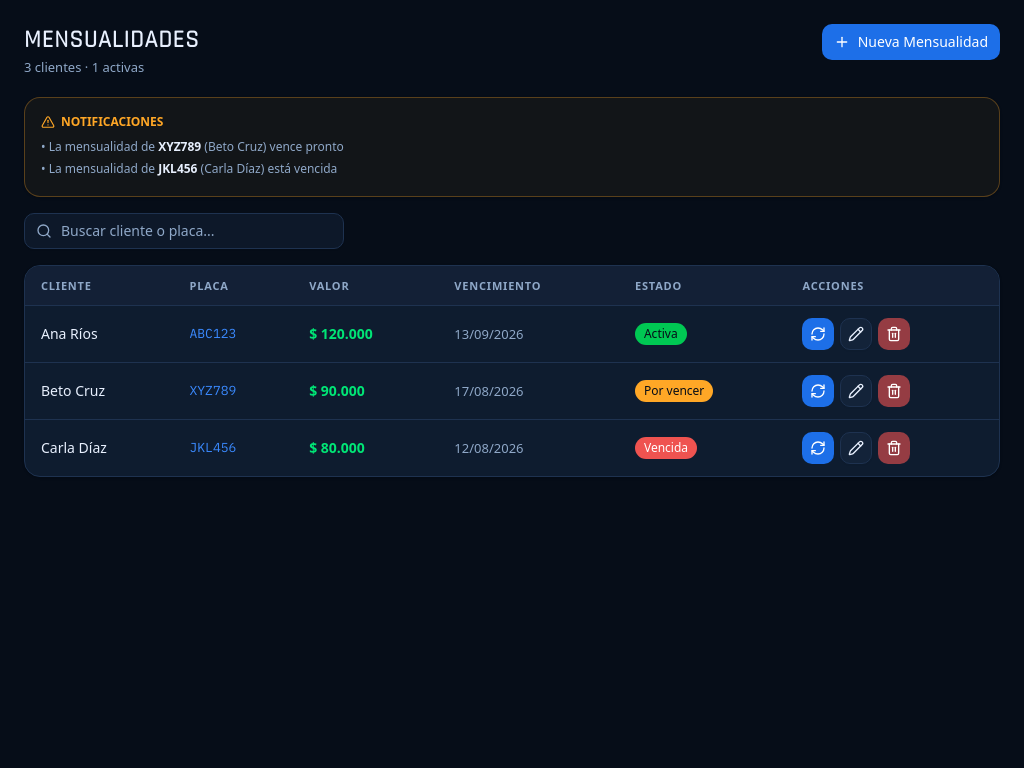
Test: no borra nada hasta confirmar en el diálogo
Click the button named "Eliminar la mensualidad de ABC123": [894, 334] box [878,318,910,350]
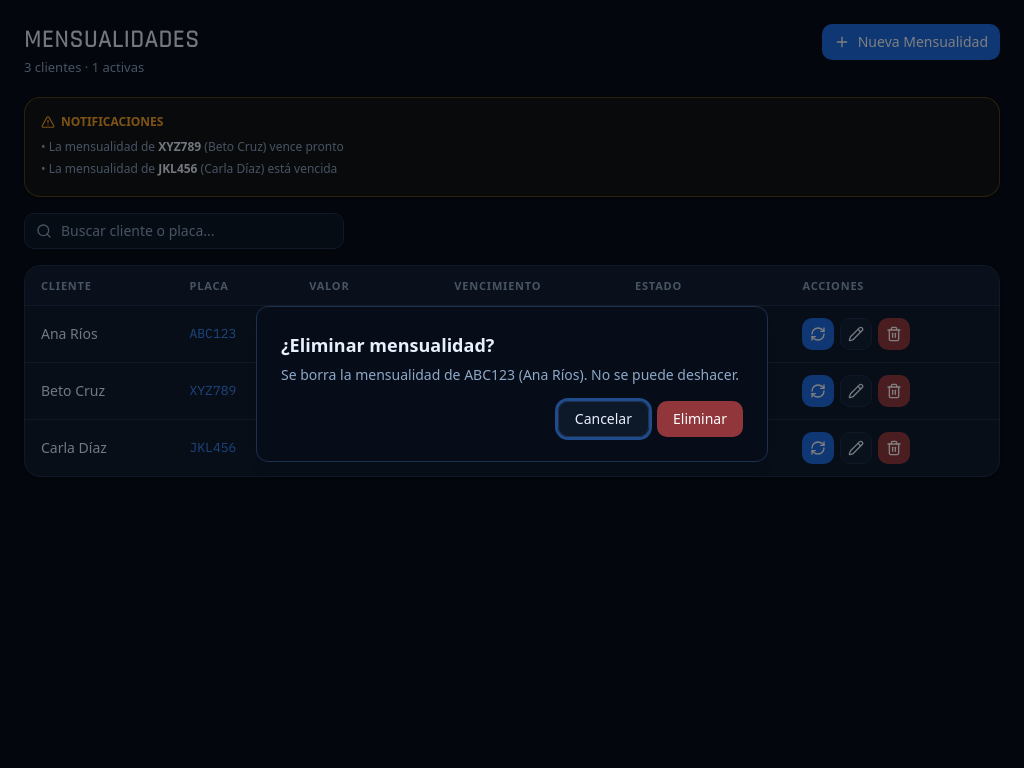
Now the heading "¿Eliminar mensualidad?" is shown, box [281,331,494,359]
Click the button "Cancelar": [603, 419] box [558,401,649,437]
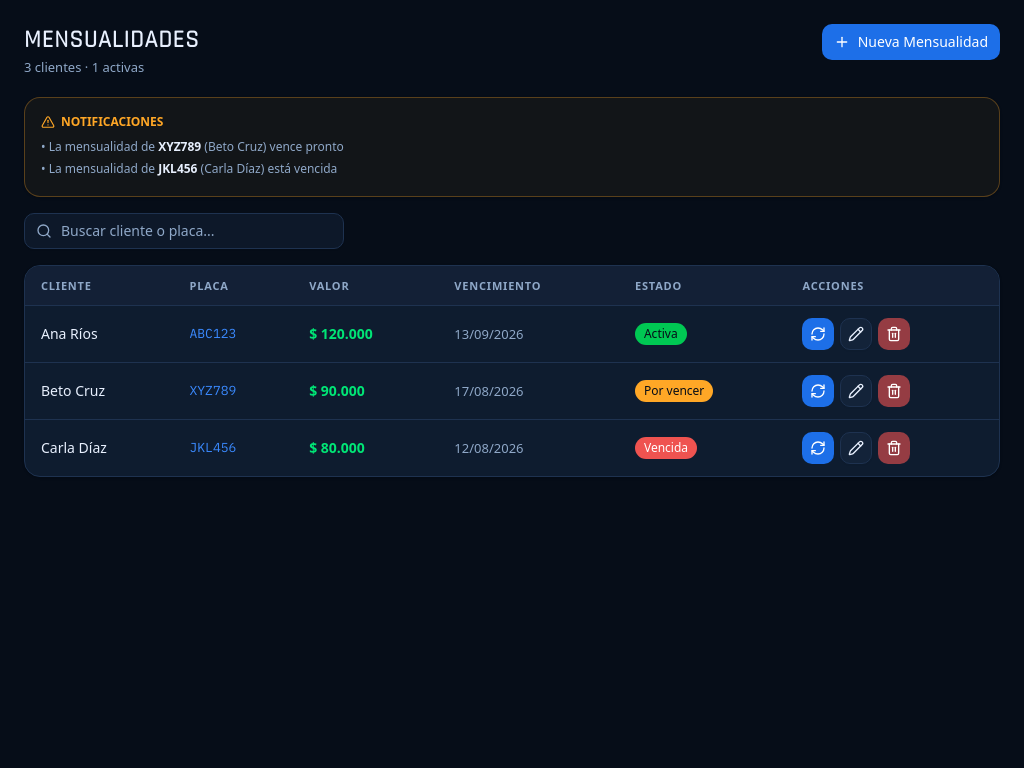
Now the heading "¿Eliminar mensualidad?" is gone
